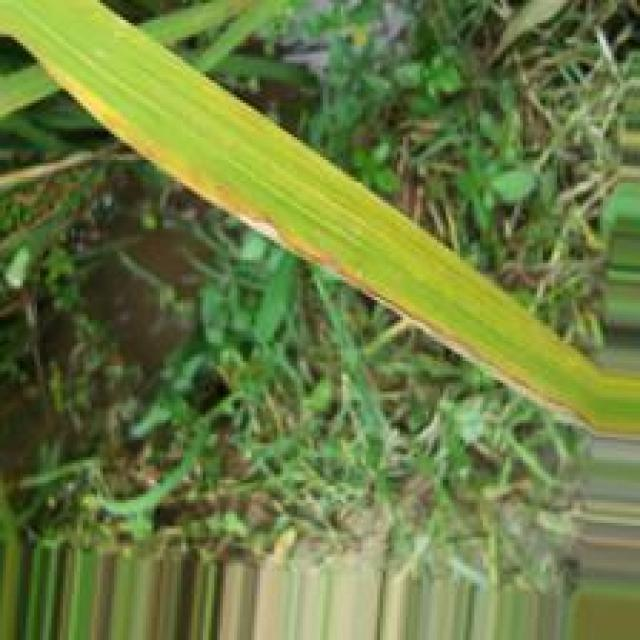Bacterial_Leaf_Blight: (49, 68, 598, 435)
